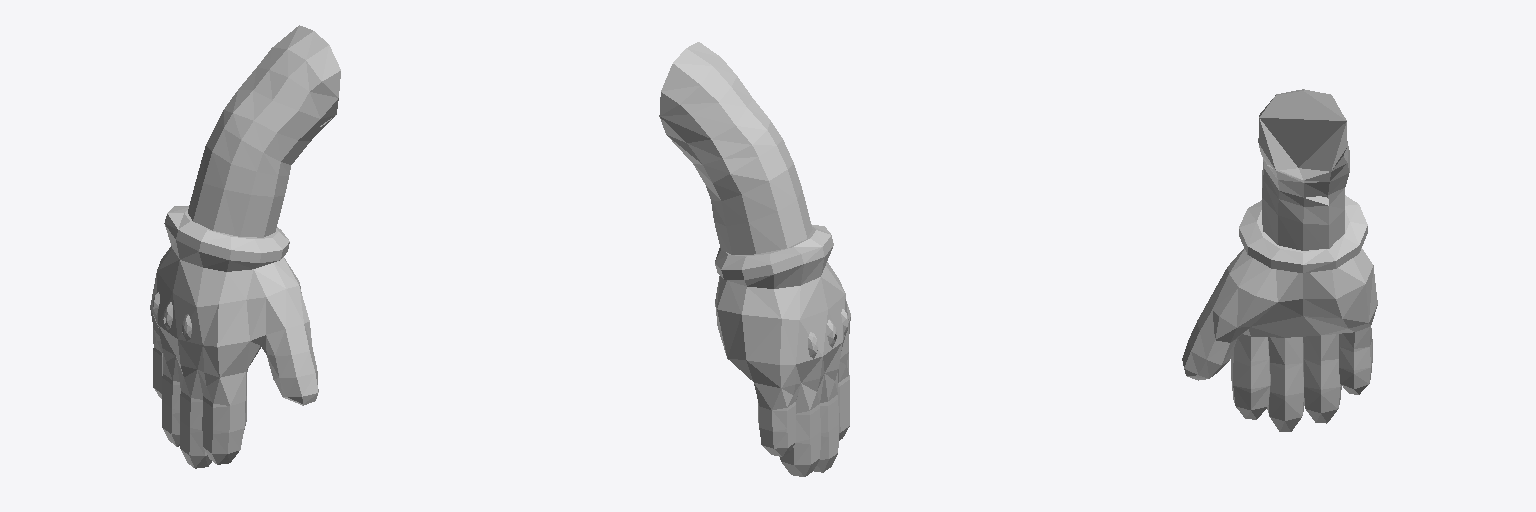
Rendered from brazoDerechoAvatar.obj.
3 views of the same model, side by side, from view 1: azimuth 30°, elevation 25°; view 2: azimuth 150°, elevation 25°; view 3: azimuth 270°, elevation 25° (orthographic).
Visible parts, largest first — view 1: body.003; view 2: body.003; view 3: body.003.
Boxes of the visible parts, x1=… form: body.003: x1=150, y1=25, x2=340, y2=468; body.003: x1=659, y1=42, x2=850, y2=476; body.003: x1=1182, y1=89, x2=1377, y2=431.
Size of the model in its own units: 0.3836 by 0.9175 by 0.4087.